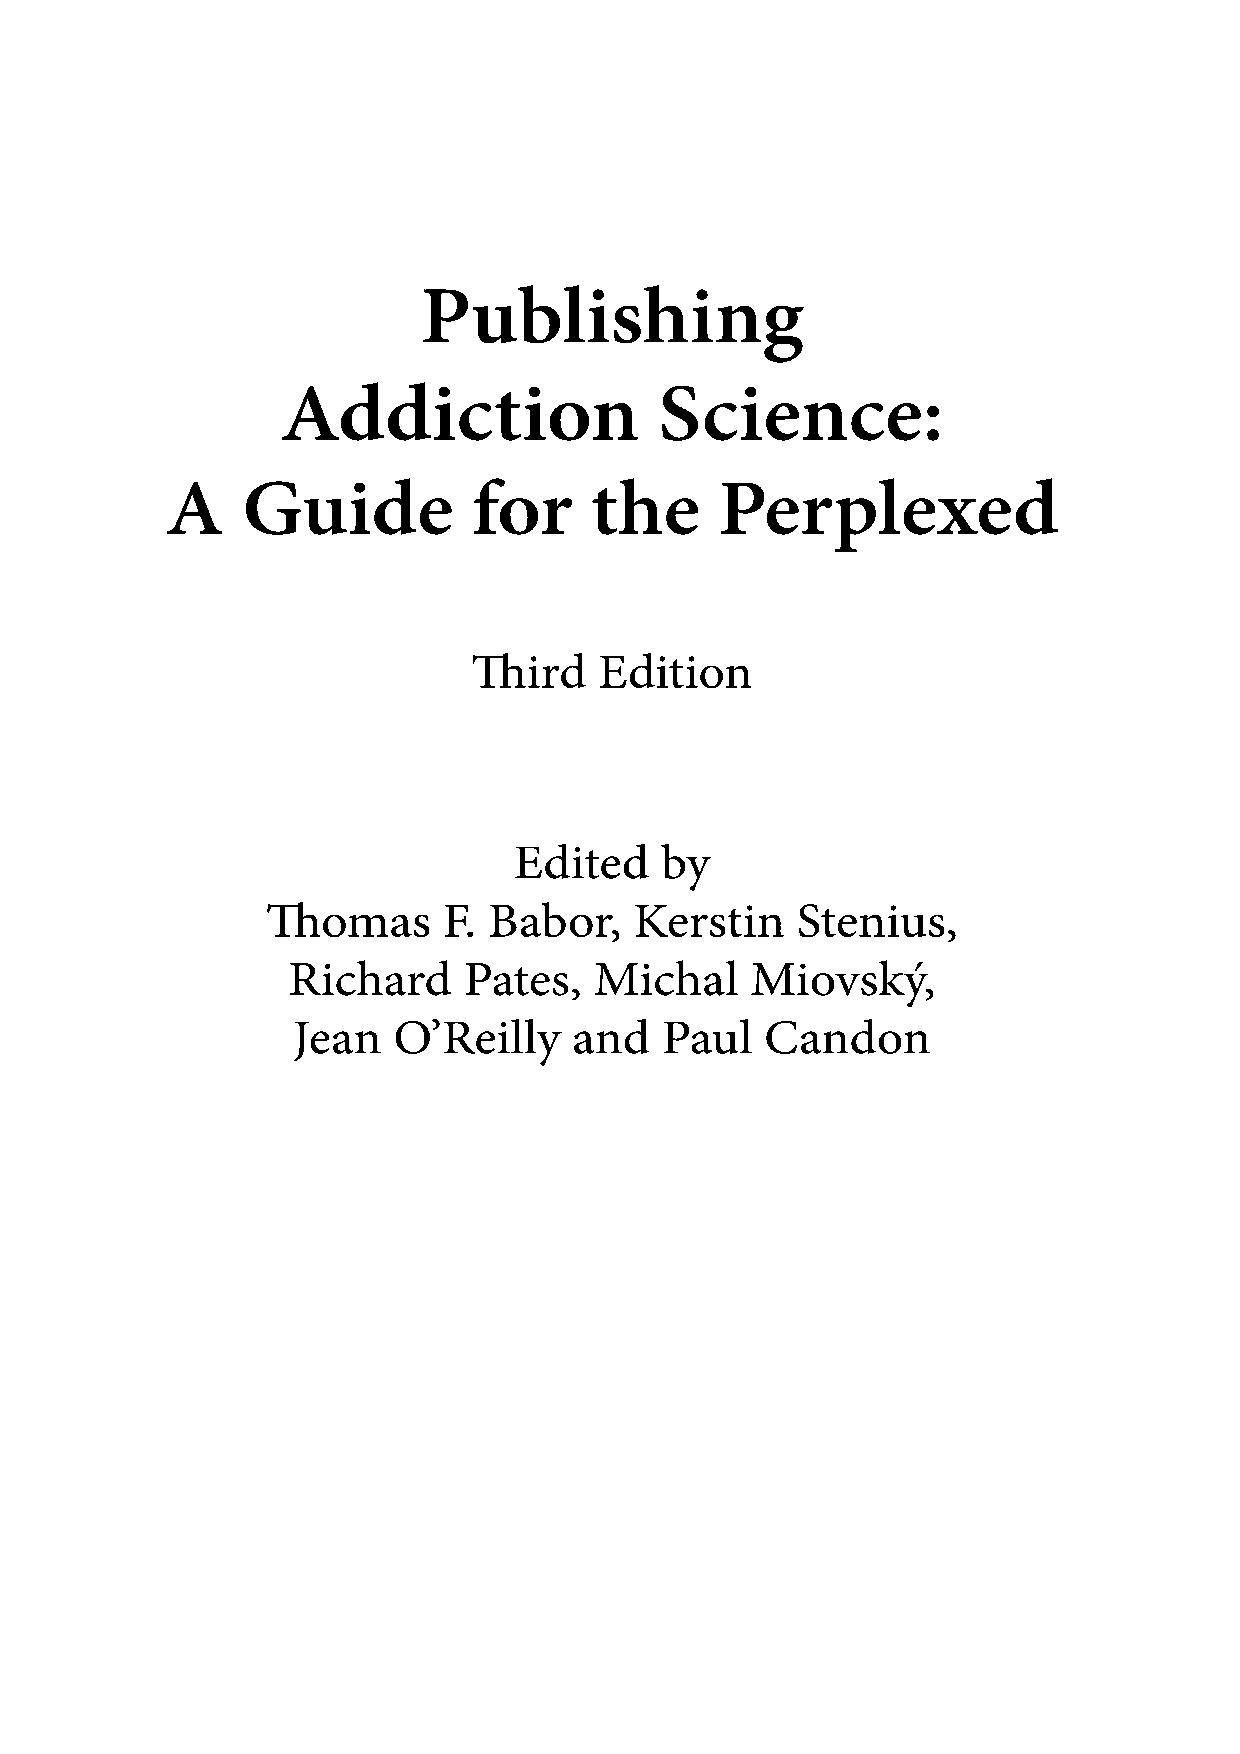author: (258, 840, 957, 1068)
title: (161, 280, 1057, 554)
